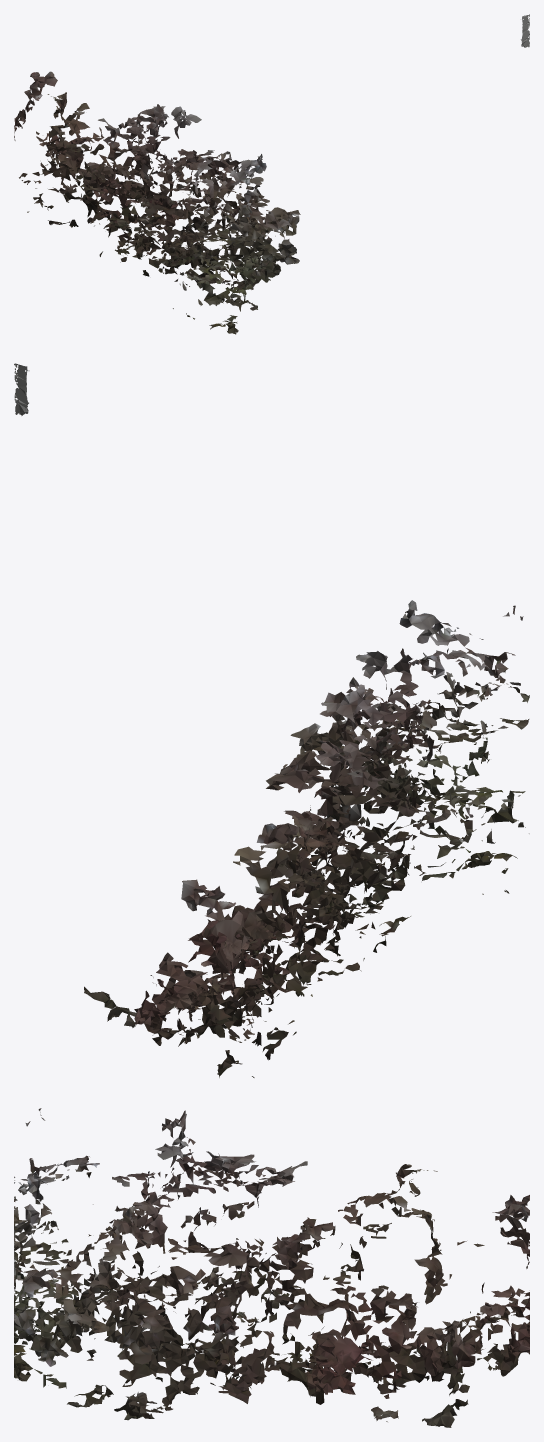
Rendered from coarse.glb.
The picture shows the model from 3 angles, top to bottom: view 1: azimuth 30°, elevation 25°; view 2: azimuth 150°, elevation 25°; view 3: azimuth 270°, elevation 25°; orthographic projection. The views are drawn at different scales.
Size of the model in its own units: 3.6 by 2.62 by 3.6.
